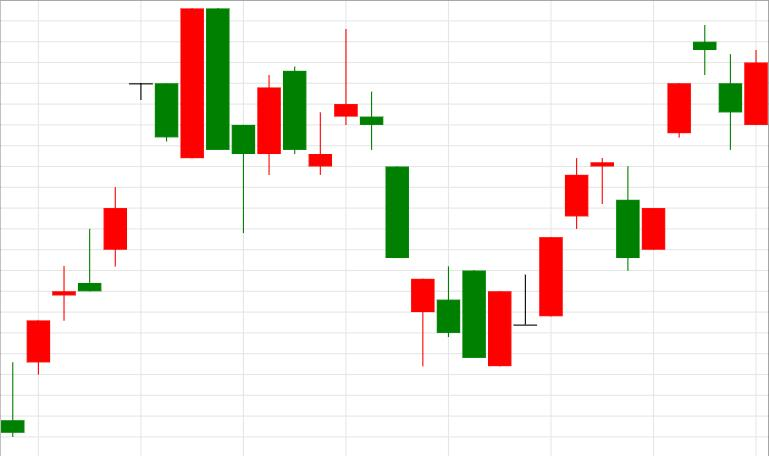evening_star_fall: (616, 24, 742, 269)
hammer_rise: (334, 29, 434, 367)
